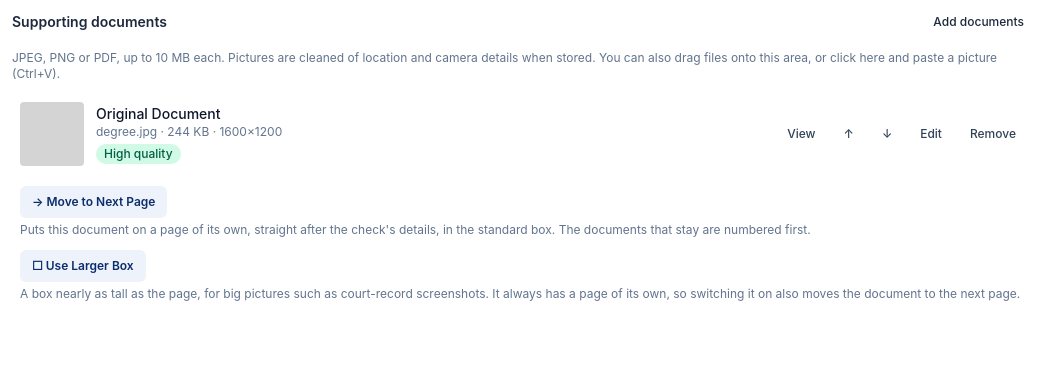
Test: CheckDocuments › shows the server's reason when the switch cannot be saved
Click the button with aria-label "Move Original Document to the next page". click: (94, 202)
box: top-left (20, 186), bottom-right (167, 218)
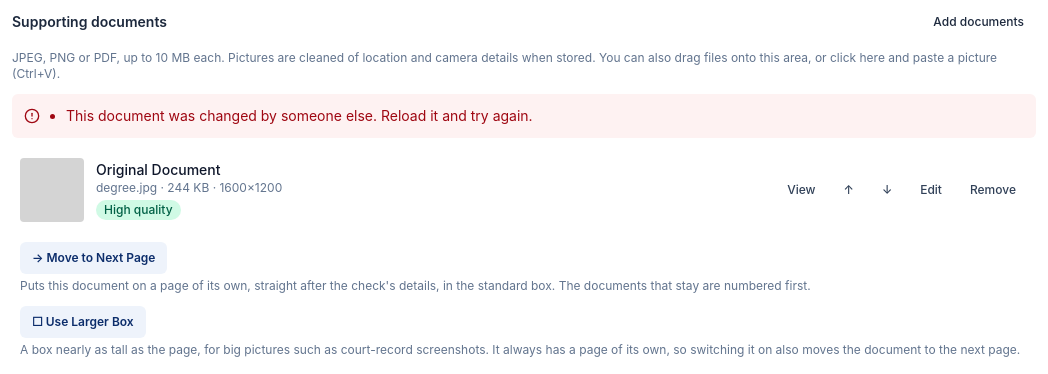
Check: the list item "changed by someone else" is shown, box top-left (66, 107), bottom-right (533, 124)
